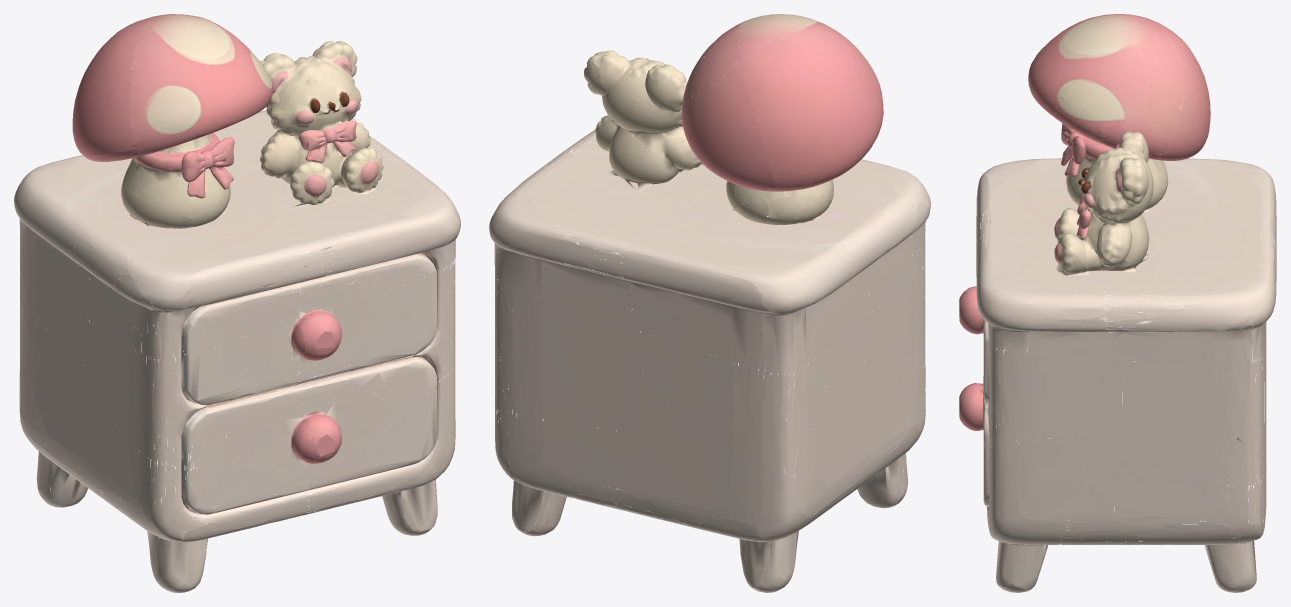
Rendered from nightstand.glb.
The picture shows the model from 3 angles, left to right: view 1: azimuth 30°, elevation 25°; view 2: azimuth 150°, elevation 25°; view 3: azimuth 270°, elevation 25°; orthographic projection. The views are drawn at different scales.
Visible parts, largest first — view 1: tripo_node_295ac032-130c-435f-b9ee-01c702461cdd; view 2: tripo_node_295ac032-130c-435f-b9ee-01c702461cdd; view 3: tripo_node_295ac032-130c-435f-b9ee-01c702461cdd.
Boxes of the visible parts, x1,y1,x2,y2 form: tripo_node_295ac032-130c-435f-b9ee-01c702461cdd: [14, 14, 460, 592]; tripo_node_295ac032-130c-435f-b9ee-01c702461cdd: [489, 14, 930, 592]; tripo_node_295ac032-130c-435f-b9ee-01c702461cdd: [959, 14, 1276, 592].
Size of the model in its own units: 0.6593 by 0.9802 by 0.5822.
1 material, 1 textured.
